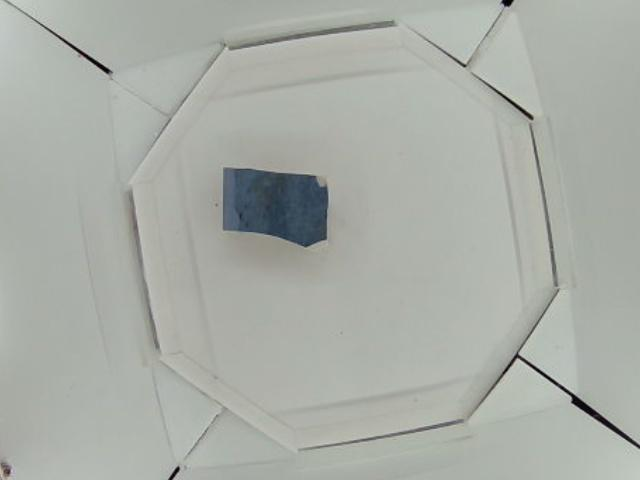China: (221, 164, 328, 248)
